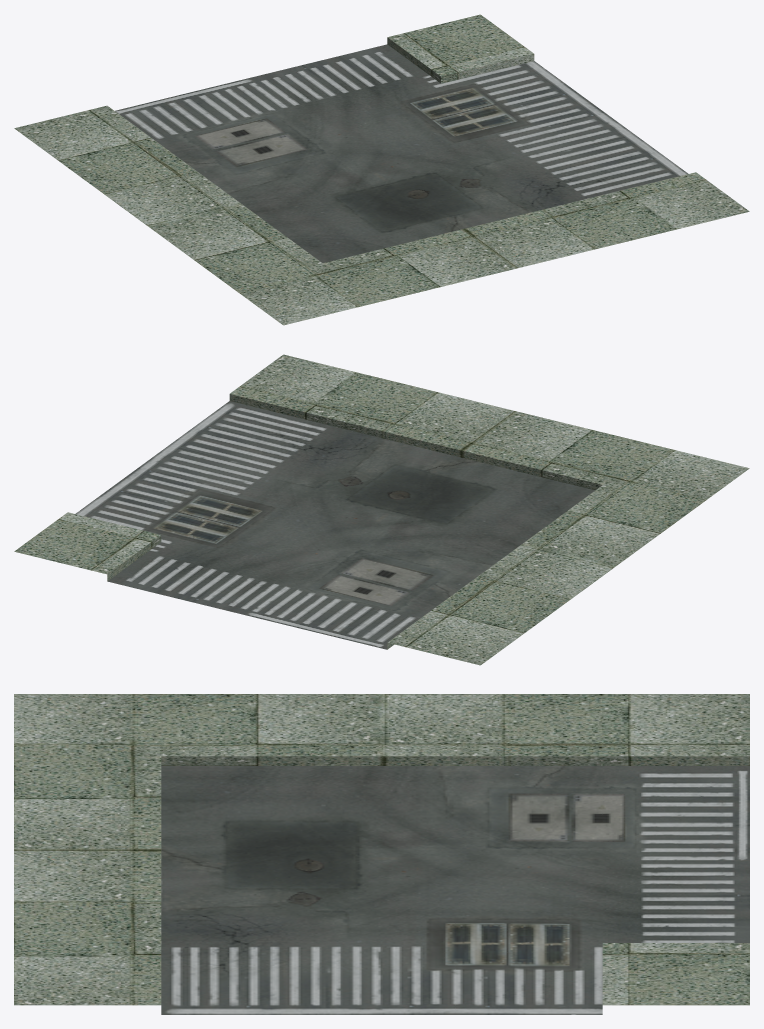
Rendered from roadblock A2.FBX.
3 renders of one model, top to bottom at view 1: azimuth 30°, elevation 25°; view 2: azimuth 150°, elevation 25°; view 3: azimuth 270°, elevation 25°, orthographic. The views are drawn at different scales.
Parts seen in each view (by area): view 1: Box001; view 2: Box001; view 3: Box001.
Part boxes in pixels (x1,y1,x2,y2): Box001: [14, 14, 749, 325]; Box001: [14, 354, 749, 665]; Box001: [14, 694, 749, 1014].
Bounding box in the file's own units: 40 × 0.5824 × 40.
